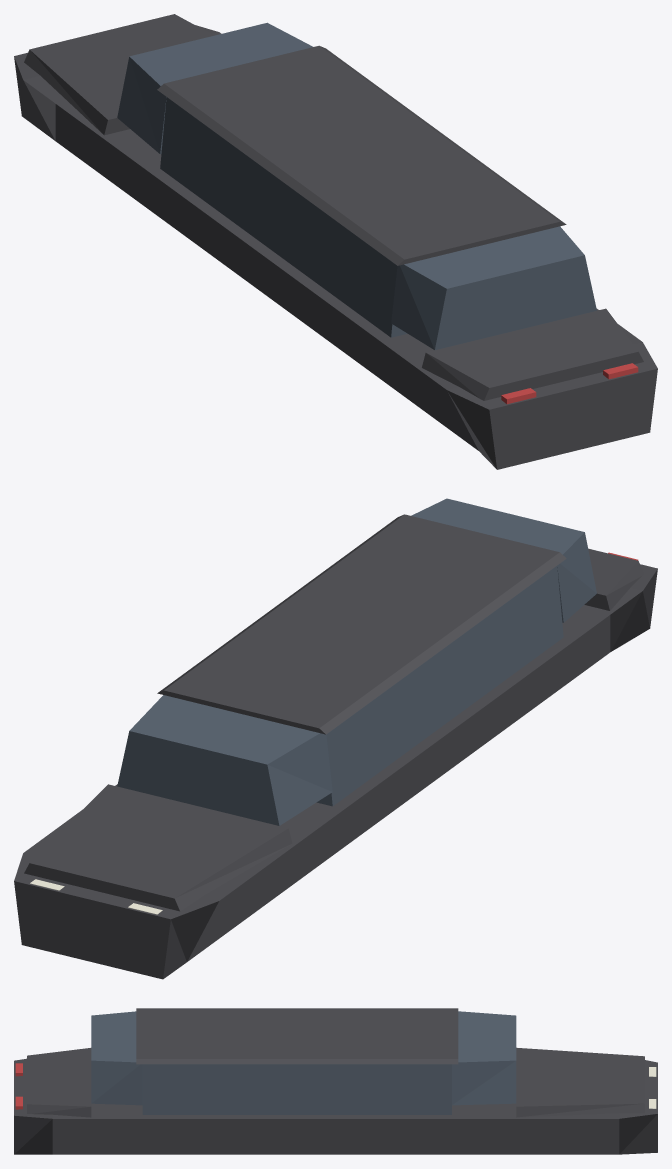
The model's file is limo.glb.
3 renders of one model, top to bottom at view 1: azimuth 30°, elevation 25°; view 2: azimuth 150°, elevation 25°; view 3: azimuth 270°, elevation 25°, orthographic. The views are drawn at different scales.
Visible parts, largest first — view 1: Stretch Limo; view 2: Stretch Limo; view 3: Stretch Limo.
Part boxes in pixels (x1,y1,x2,y2): Stretch Limo: [14, 14, 657, 469]; Stretch Limo: [14, 498, 657, 979]; Stretch Limo: [14, 1008, 657, 1154].
Size of the model in its own units: 2 by 1.45 by 8.5.
